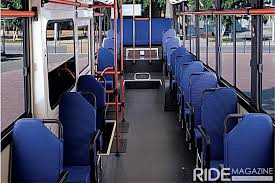seat: (61, 100, 98, 180)
